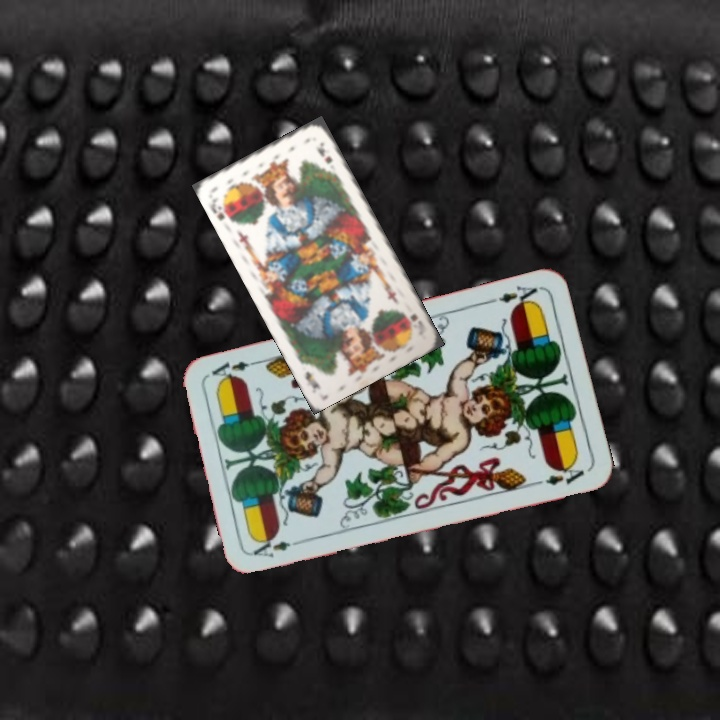EA: (484, 281, 542, 311), (249, 534, 307, 560)
SK: (206, 193, 236, 224), (406, 310, 426, 338)
